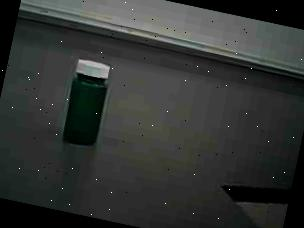Bottle C: (50, 52, 126, 154)
